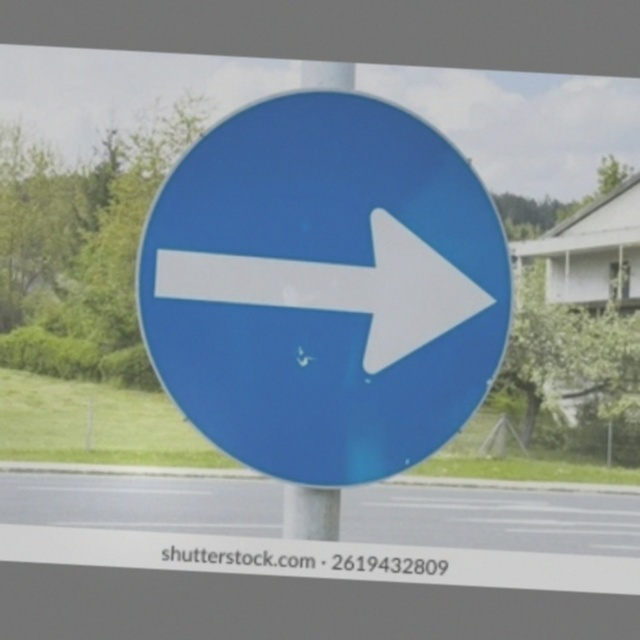Compulsory_Turn_Right: (134, 77, 526, 493)
